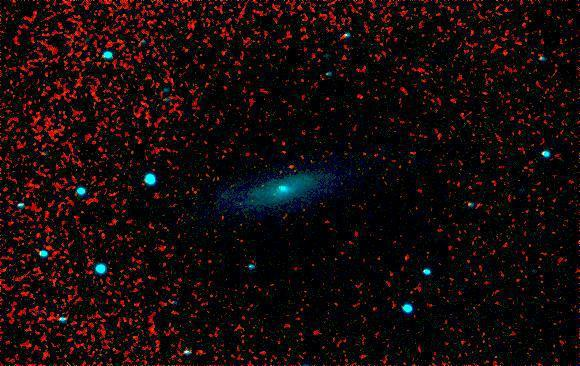star: (277, 151, 307, 181)
